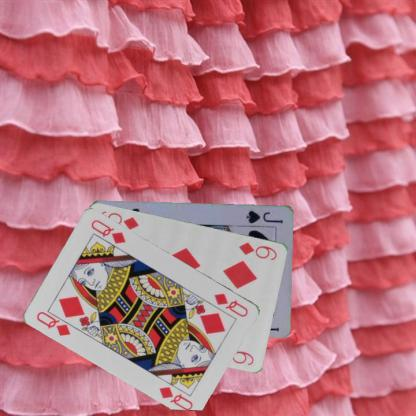6d: (236, 239, 278, 261)
Js: (244, 207, 284, 225)
Qd: (34, 308, 79, 338), (212, 290, 250, 318)
